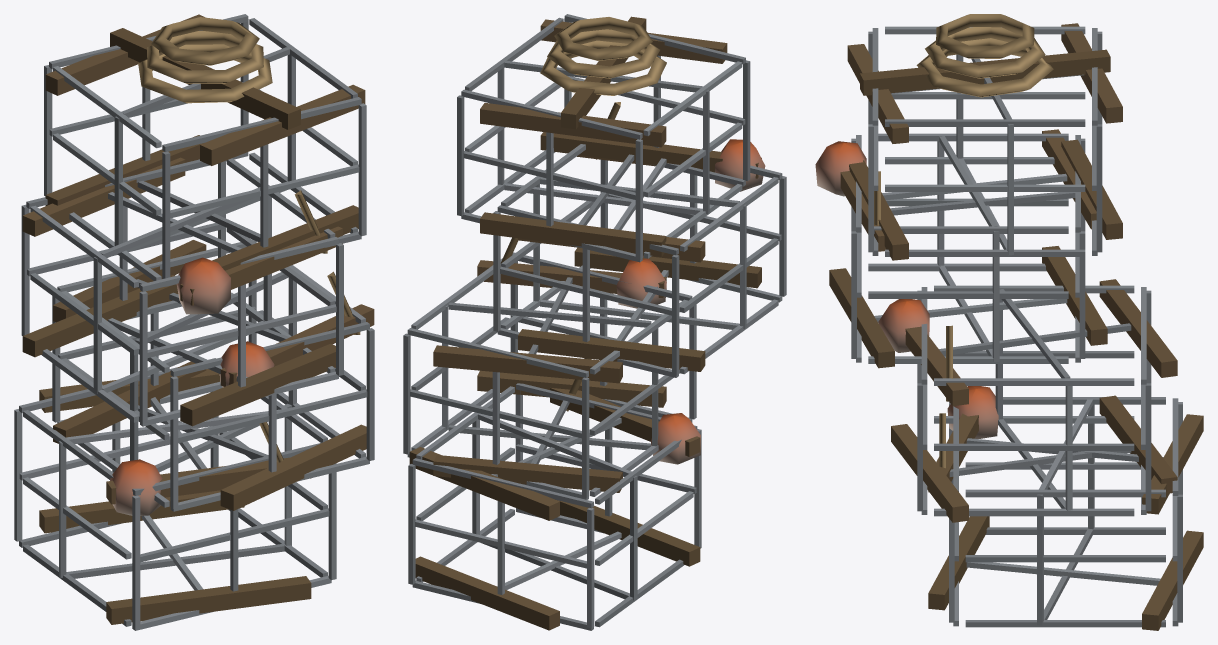
The model's file is crab-trap-stack.glb.
3 views of the same model, side by side, from view 1: azimuth 30°, elevation 25°; view 2: azimuth 150°, elevation 25°; view 3: azimuth 270°, elevation 25° (orthographic). The views are drawn at different scales.
Parts seen in each view (by area): view 1: crab_trap_stack; view 2: crab_trap_stack; view 3: crab_trap_stack.
Part boxes in pixels (x1,y1,x2,y2): crab_trap_stack: (14, 14, 374, 630); crab_trap_stack: (403, 14, 786, 630); crab_trap_stack: (815, 14, 1203, 630).
Bounding box in the file's own units: 0.8767 × 1.59 × 1.03.
